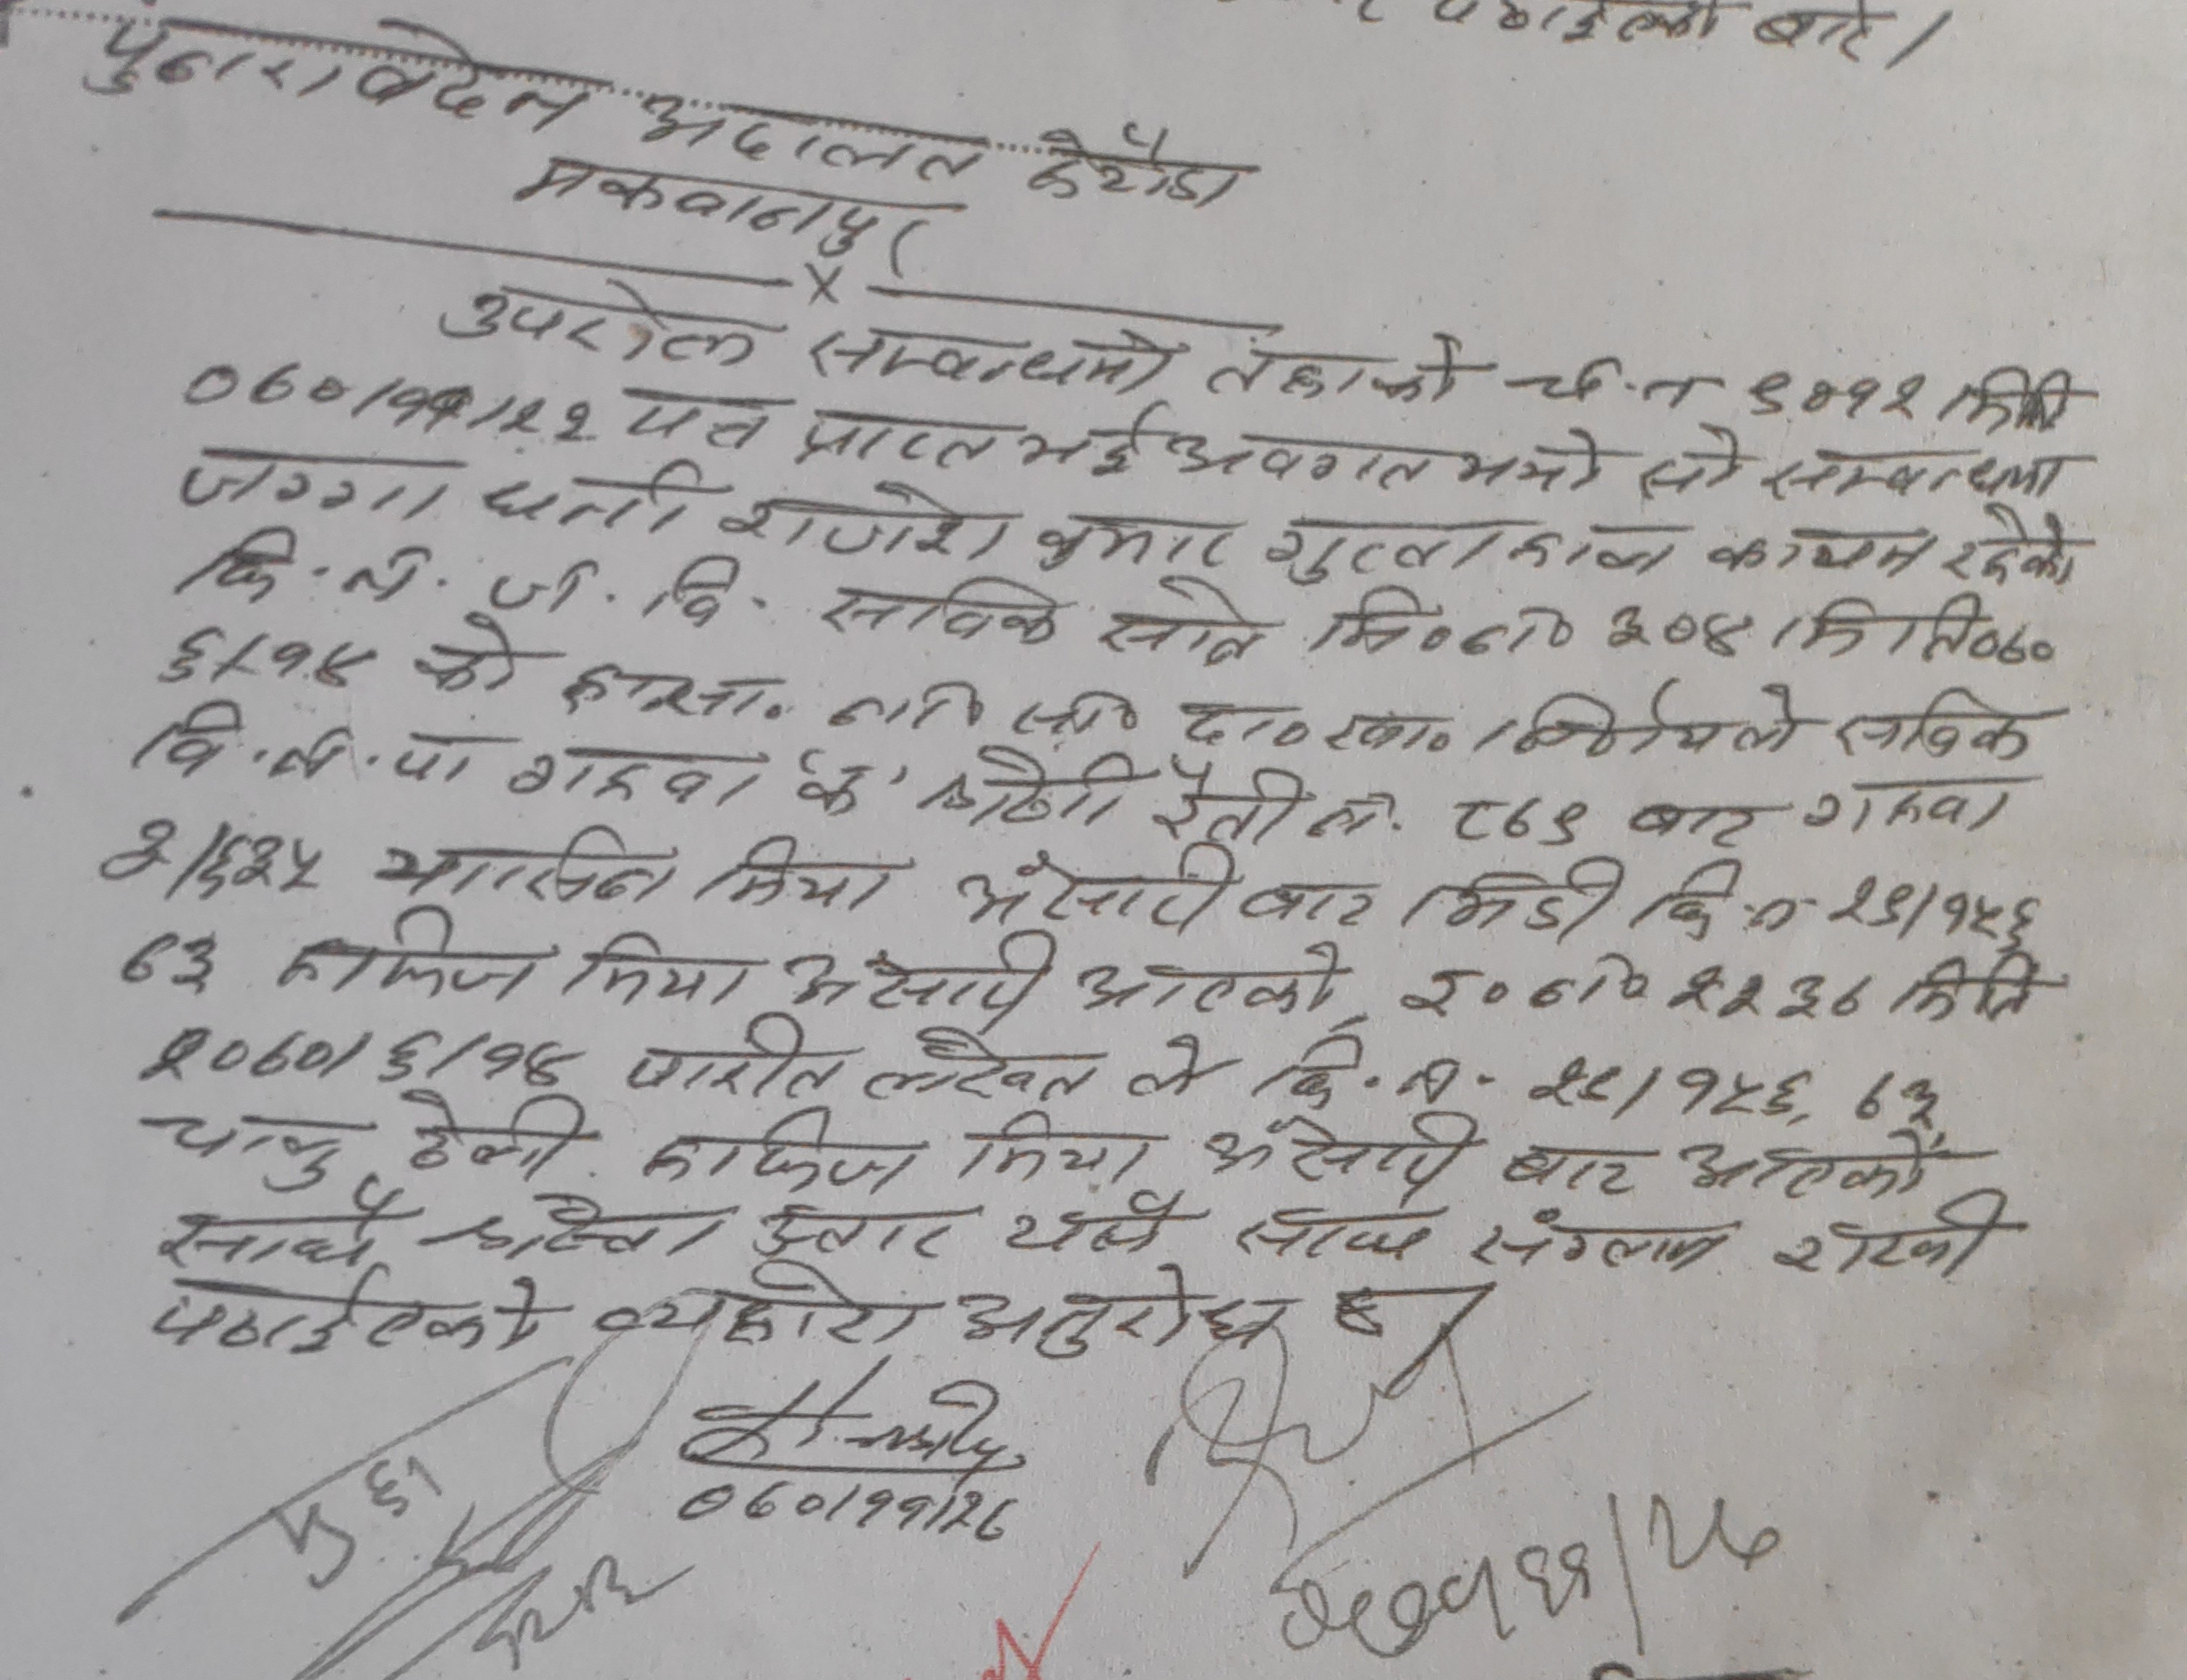text: (76, 4, 605, 138), (560, 653, 1154, 746), (517, 152, 923, 277), (1387, 946, 1890, 1032), (187, 348, 602, 452), (937, 1258, 1311, 1373), (634, 76, 996, 192), (950, 835, 1382, 930), (132, 1279, 565, 1368), (432, 261, 763, 376), (1253, 499, 1689, 586), (1527, 1052, 1963, 1136), (953, 743, 1304, 847), (129, 692, 494, 791), (131, 1011, 572, 1089), (805, 307, 1183, 397), (1486, 665, 1822, 764), (590, 1260, 937, 1354), (365, 814, 680, 907), (637, 1098, 921, 1198), (778, 923, 1057, 1022), (267, 909, 545, 1006), (715, 475, 1027, 561), (1197, 1106, 1488, 1196), (494, 727, 777, 819), (1170, 674, 1462, 762), (177, 436, 455, 526), (173, 515, 438, 609), (814, 566, 1077, 660), (1310, 574, 1582, 664), (1670, 1115, 1952, 1202), (1755, 429, 2074, 505), (1199, 325, 1472, 411), (90, 808, 337, 904), (482, 542, 738, 634), (1015, 122, 1266, 215), (618, 1008, 867, 1099), (148, 1175, 392, 1269), (1066, 939, 1352, 1018), (1248, 1022, 1514, 1106), (1167, 416, 1432, 501), (392, 1075, 590, 1188), (870, 1016, 1103, 1110), (1398, 847, 1622, 944), (478, 452, 699, 547), (1777, 572, 1982, 671), (1823, 863, 2055, 949), (1829, 674, 2046, 764), (152, 614, 376, 697), (551, 926, 761, 1015), (1093, 577, 1280, 676), (1497, 337, 1719, 420), (1710, 505, 1933, 586), (793, 406, 1017, 485), (690, 826, 902, 909), (1793, 764, 2019, 842), (955, 1105, 1165, 1182), (1027, 510, 1248, 581), (1454, 420, 1622, 505), (1011, 395, 1154, 494), (1742, 360, 1938, 429), (618, 371, 780, 452), (1887, 946, 2039, 1032), (1938, 508, 2092, 593), (1596, 591, 1767, 665), (1442, 778, 1597, 858), (1633, 416, 1751, 519), (1497, 1135, 1649, 1204), (1620, 782, 1762, 854), (406, 607, 521, 692), (113, 926, 224, 1008), (1116, 1015, 1214, 1105)
